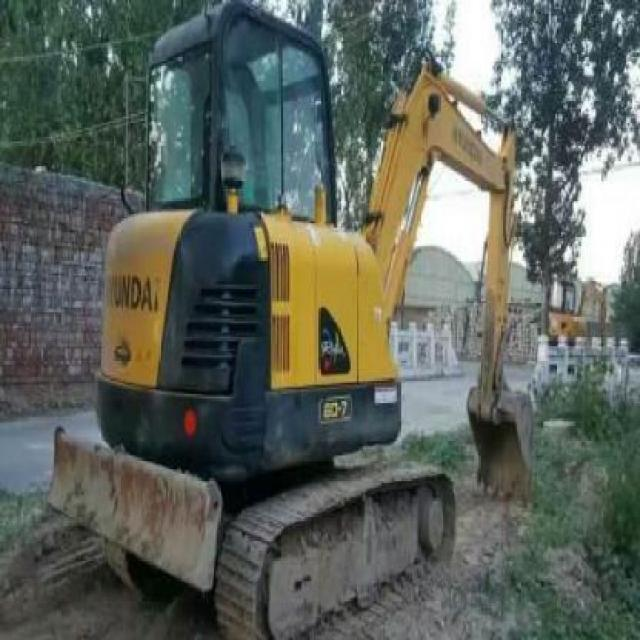Excavator: (49, 0, 533, 635)
